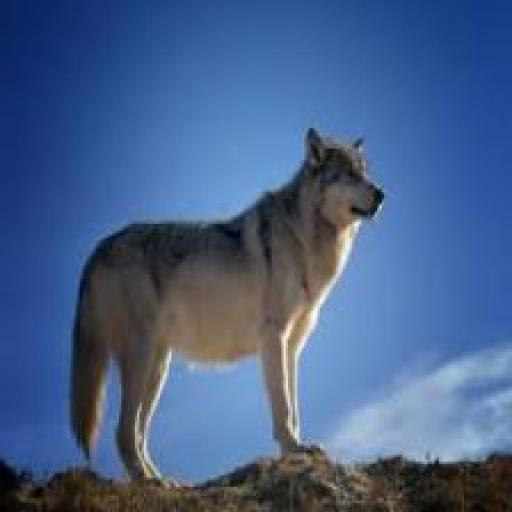wolf: (62, 124, 400, 484)
